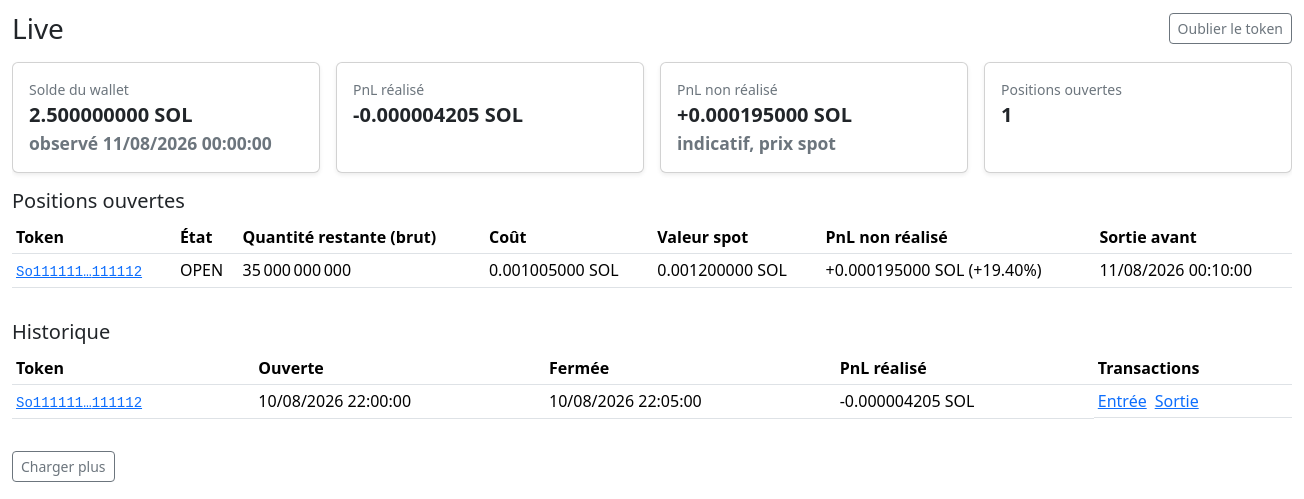
Test: live page › loads another history page with the opaque cursor
Click the button "Charger plus".
click(63, 466)  # box [12, 451, 114, 482]
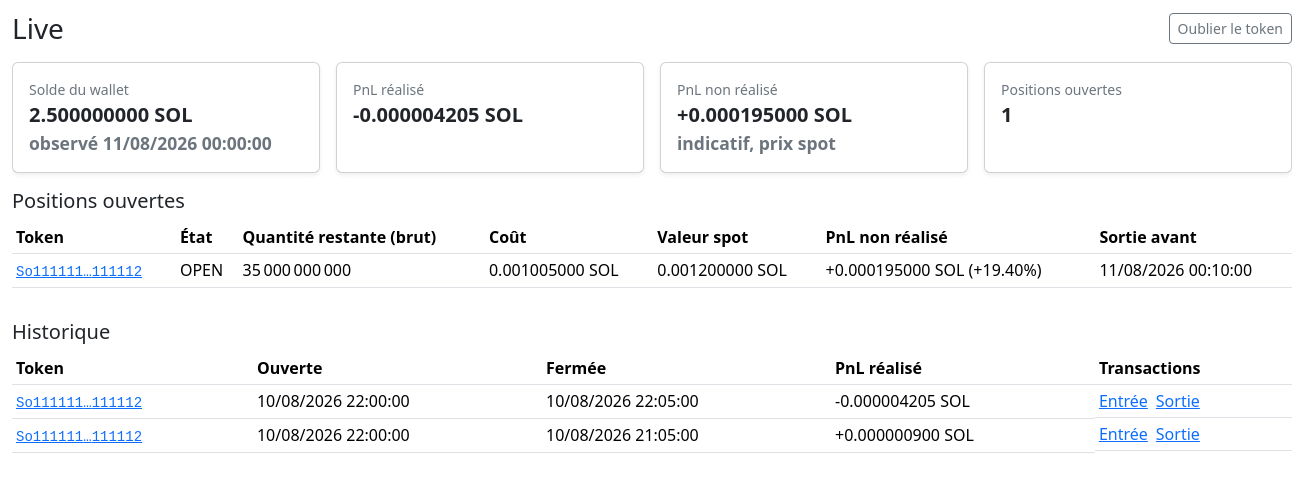
Result: the text "+0.000000900 SOL" is shown at [831, 418, 1095, 452]
Result: the button "Charger plus" is gone
